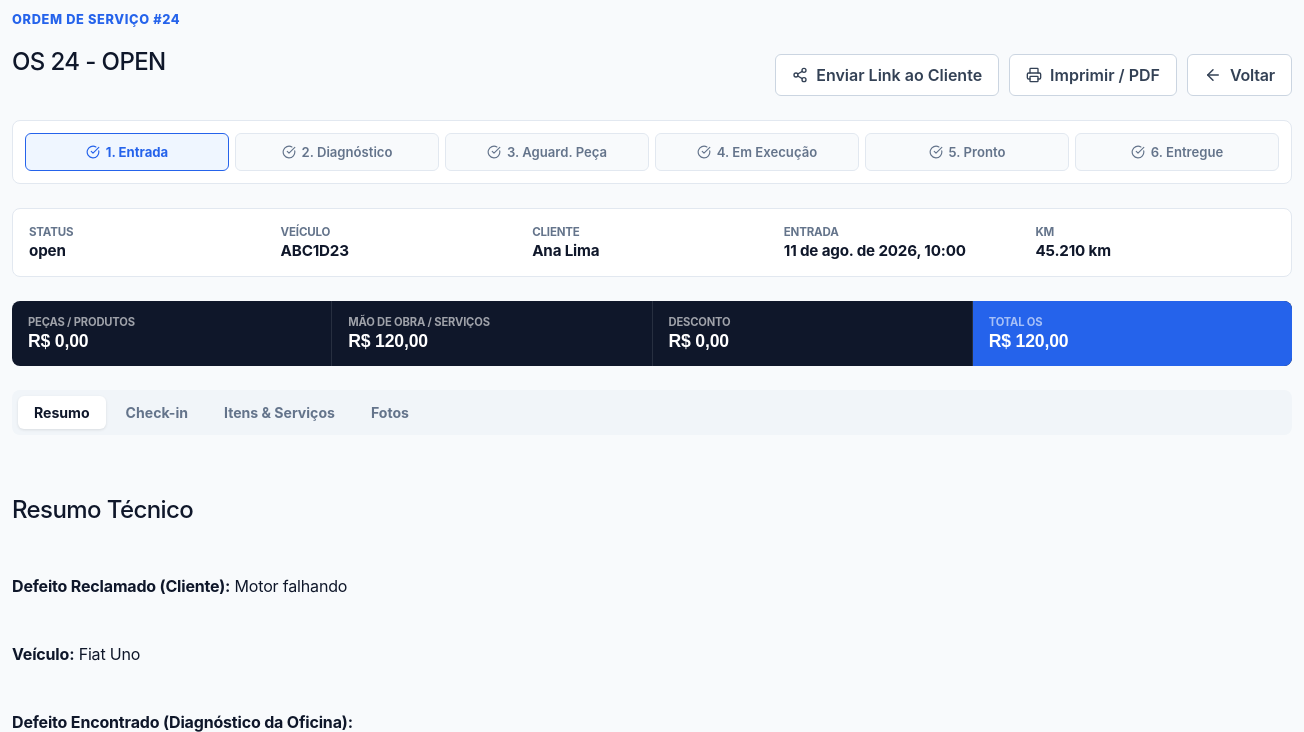
Test: service order workflow › renders the required detail tabs and tenant-scoped service items
The width and height of the screenshot is (1304, 732).
Expected: the heading "OS 24 - OPEN" is shown, [12, 47, 180, 76]
Expected: the tab "Resumo" is shown, [18, 396, 106, 429]
Click the tab "Itens & Serviços".
click(280, 412)  # box [208, 396, 351, 429]
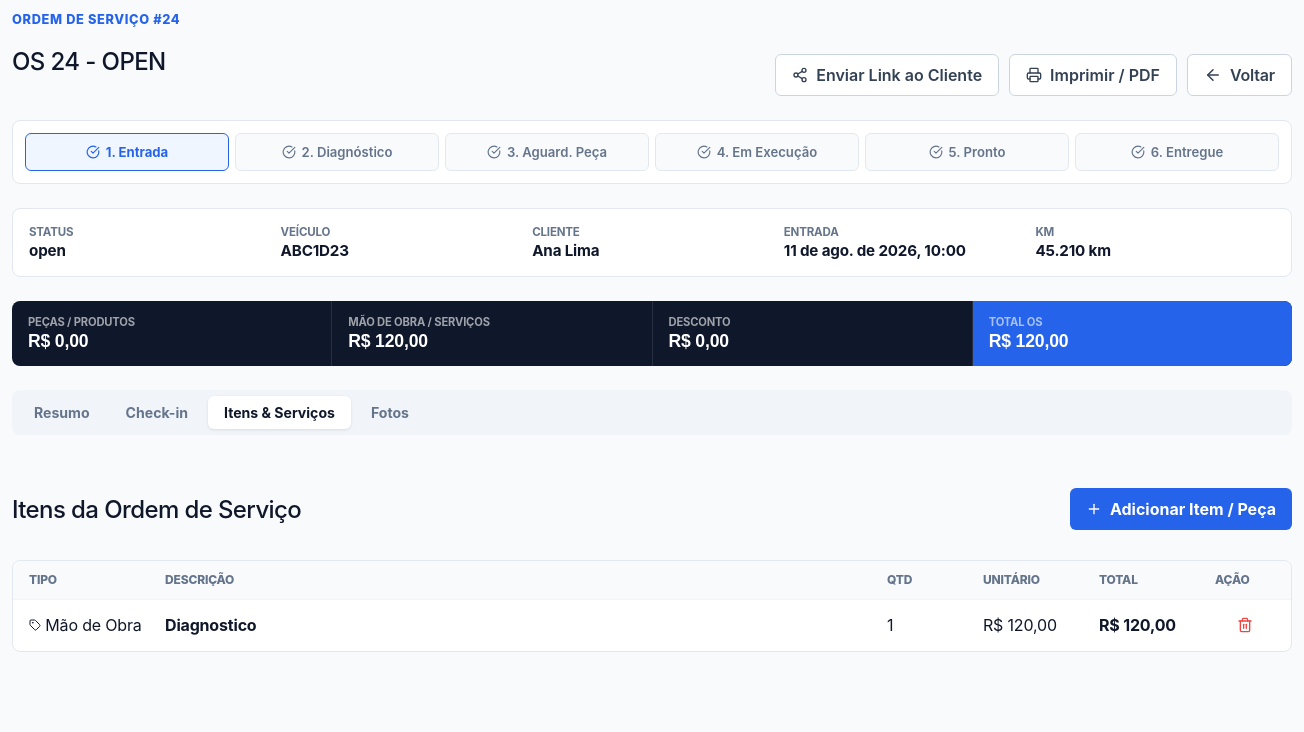
Expected: the text "Diagnostico" is shown, [165, 615, 256, 635]
